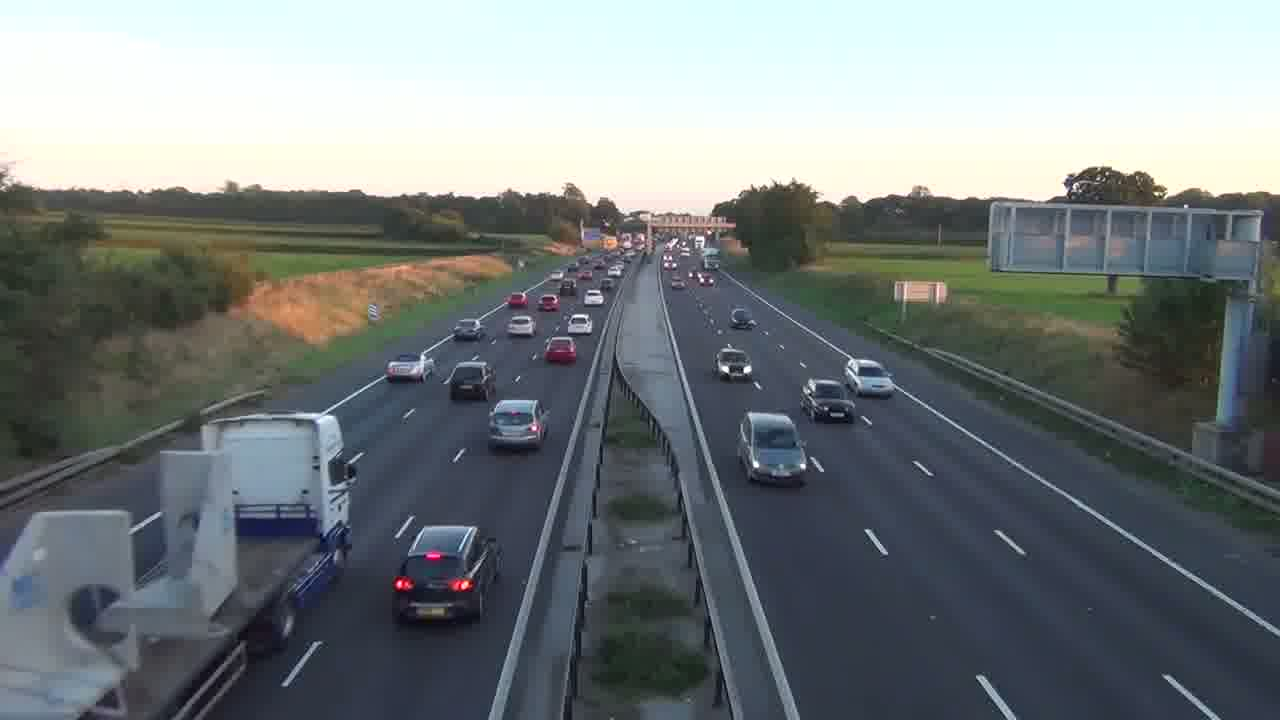car: (391, 524, 502, 625), (487, 398, 549, 452), (799, 378, 857, 423), (842, 358, 896, 400), (446, 359, 497, 402), (384, 352, 431, 384), (714, 345, 754, 381), (543, 335, 577, 365), (506, 314, 536, 339), (567, 313, 593, 335)
truck: (202, 411, 357, 551)
